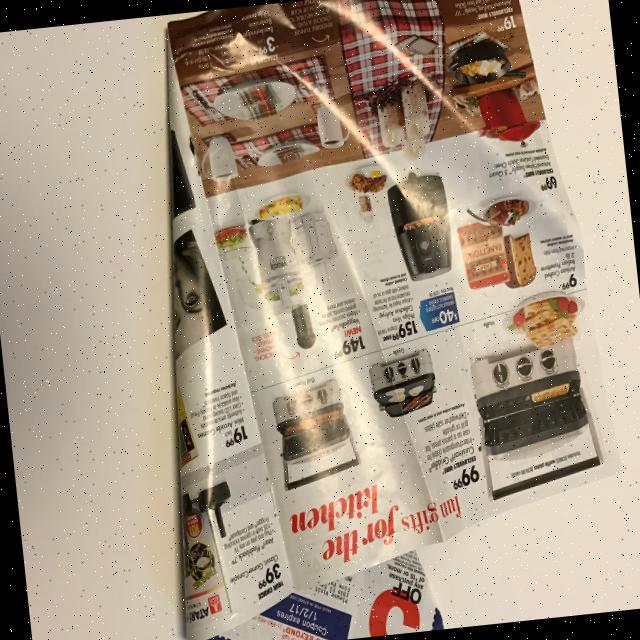paper: (118, 0, 635, 640)
